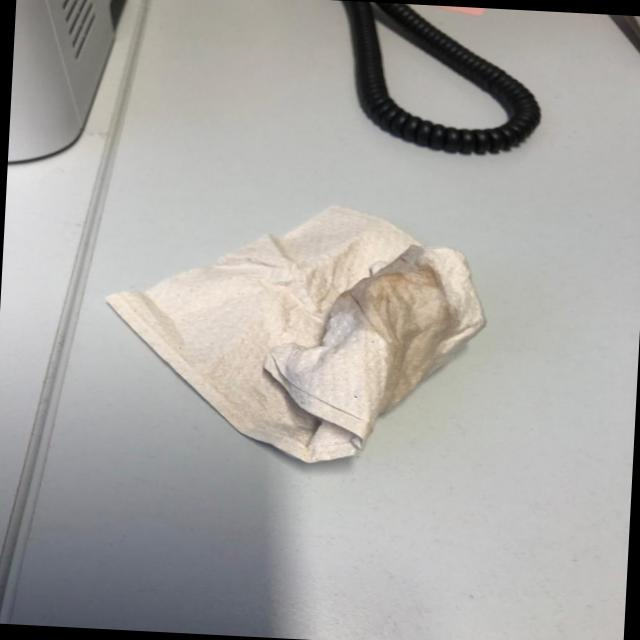organic waste: (99, 189, 498, 478)
